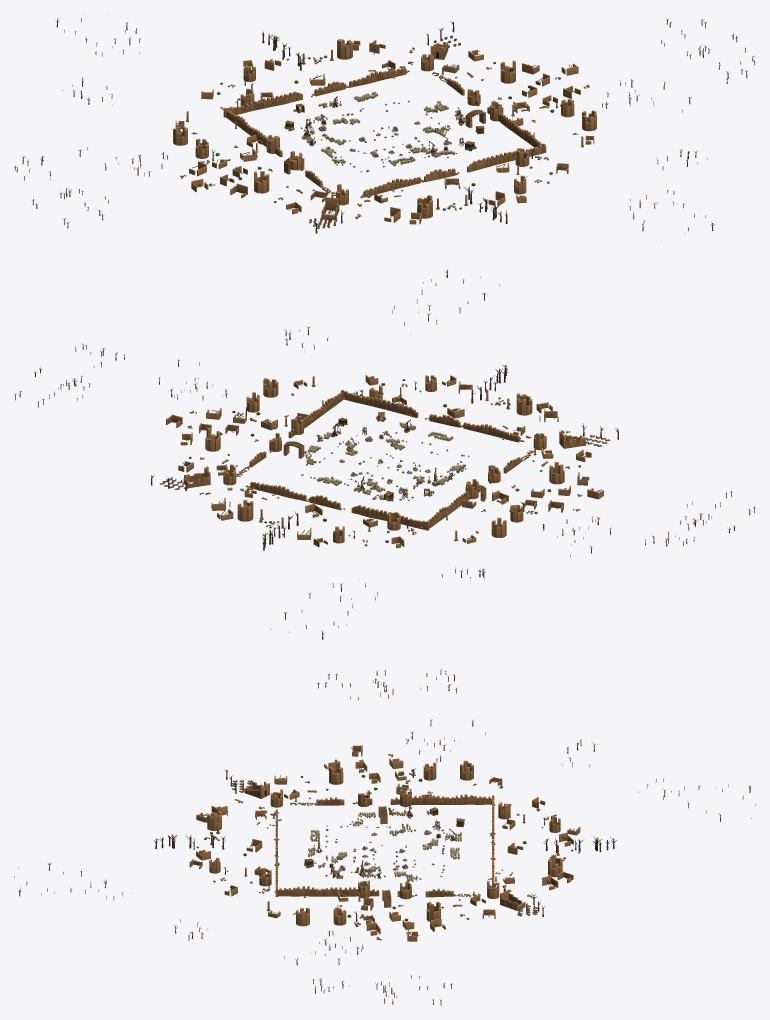
The model's file is quarry.glb.
The picture shows the model from 3 angles, top to bottom: view 1: azimuth 30°, elevation 25°; view 2: azimuth 150°, elevation 25°; view 3: azimuth 270°, elevation 25°; orthographic projection. The views are drawn at different scales.
Parts seen in each view (by area): view 1: Props, TallGrass; view 2: Props, TallGrass; view 3: Props, TallGrass.
Part boxes in pixels (<box>): Props: <box>14,18,755,233</box>; TallGrass: <box>284,91,477,166</box>; Props: <box>14,270,754,639</box>; TallGrass: <box>303,416,465,501</box>; Props: <box>14,669,755,1005</box>; TallGrass: <box>305,810,463,881</box>.
Bounding box in the file's own units: 328 × 19.45 × 319.
Materials: 19 (19 with a texture image).
